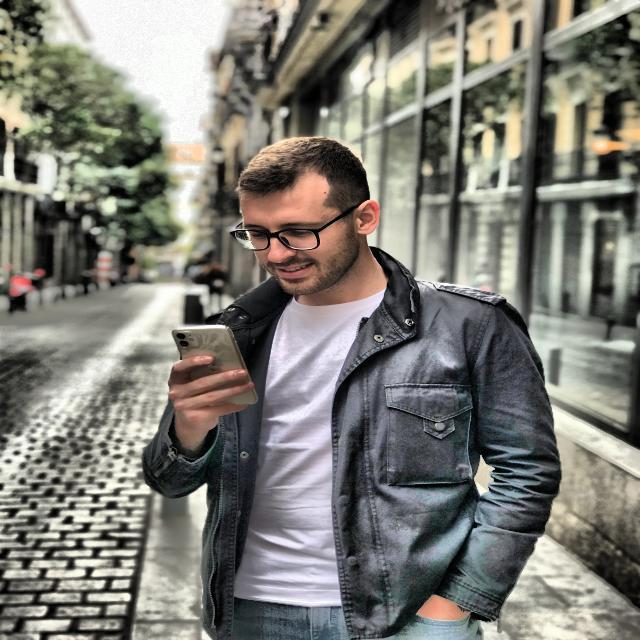Phone: (169, 324, 259, 407)
